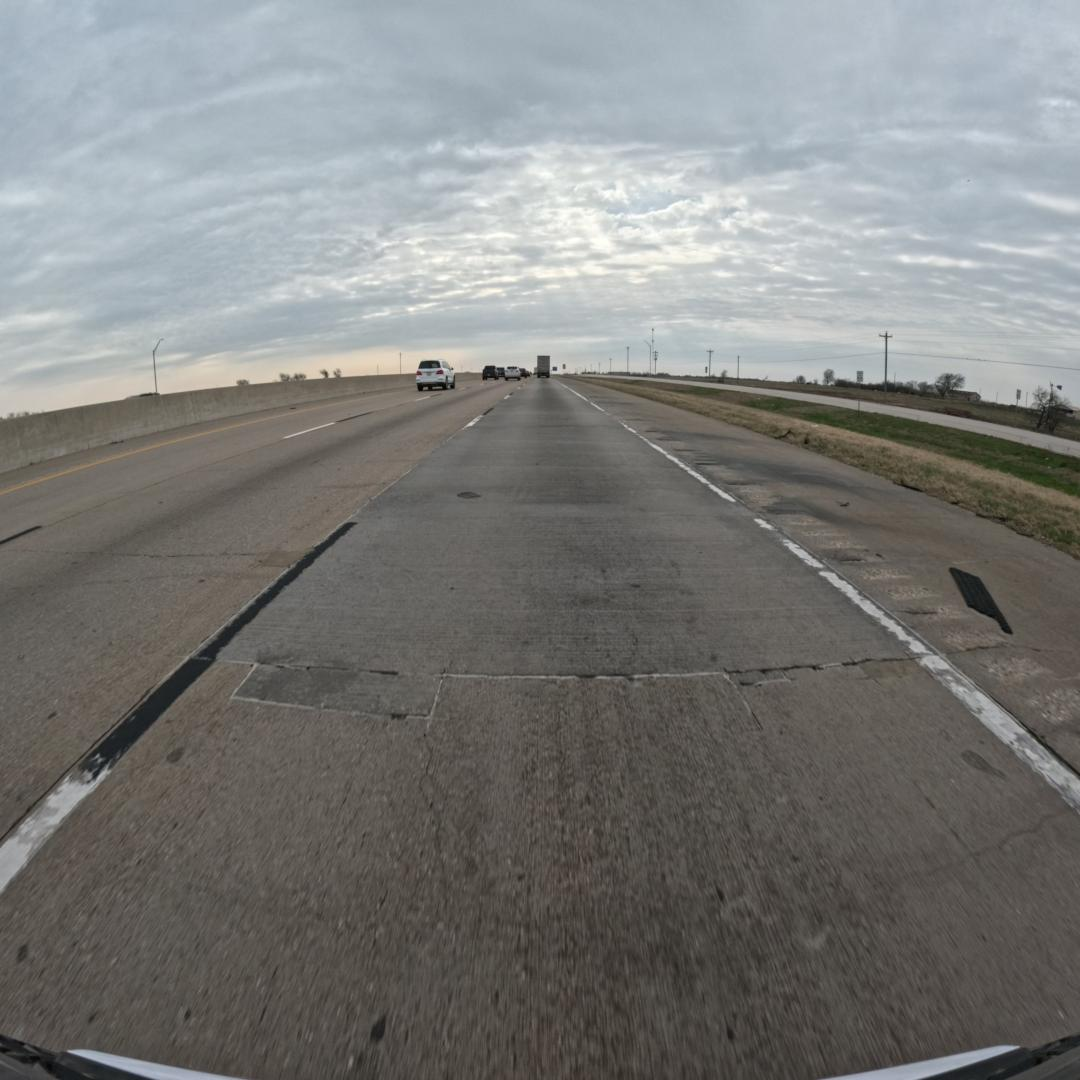lane0: (0, 382, 1080, 1076)
lane1: (0, 381, 519, 837)
